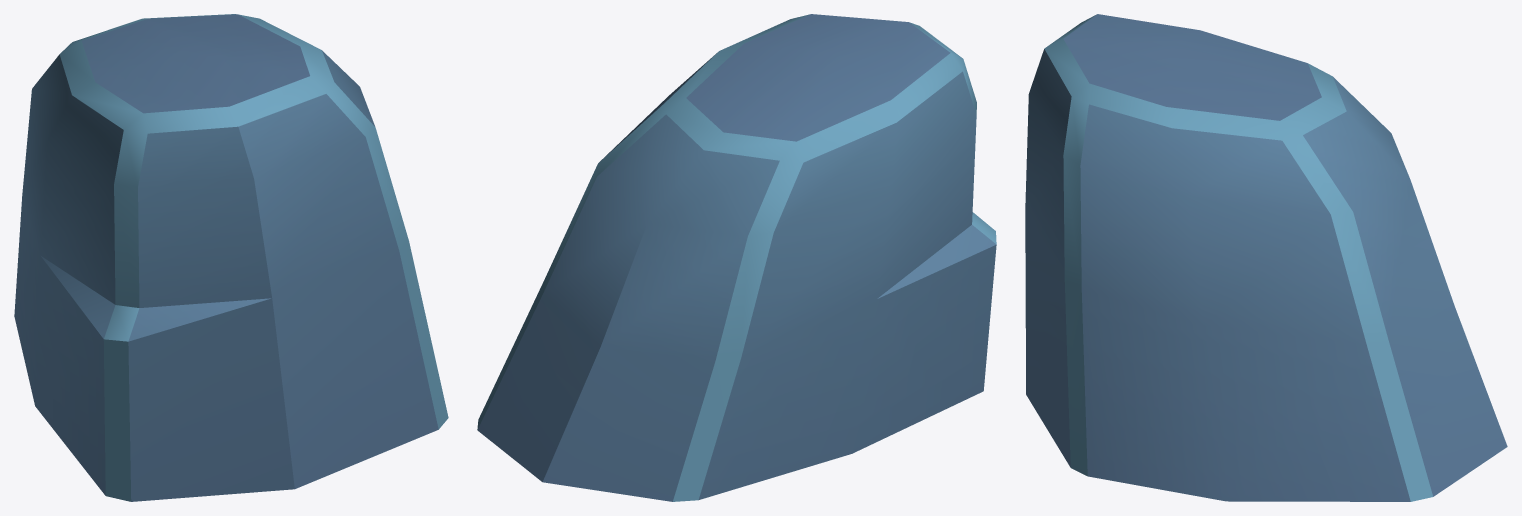
File: Rock-3-2.fbx
3 views of the same model, side by side, from view 1: azimuth 30°, elevation 25°; view 2: azimuth 150°, elevation 25°; view 3: azimuth 270°, elevation 25° (orthographic). The views are drawn at different scales.
Parts seen in each view (by area): view 1: Rock-3-2; view 2: Rock-3-2; view 3: Rock-3-2.
Boxes of the visible parts, x1,y1,x2,y2 form: Rock-3-2: (14, 14, 448, 501); Rock-3-2: (477, 14, 996, 501); Rock-3-2: (1025, 14, 1507, 501).
Bounding box in the file's own units: 109 × 97.99 × 126.
